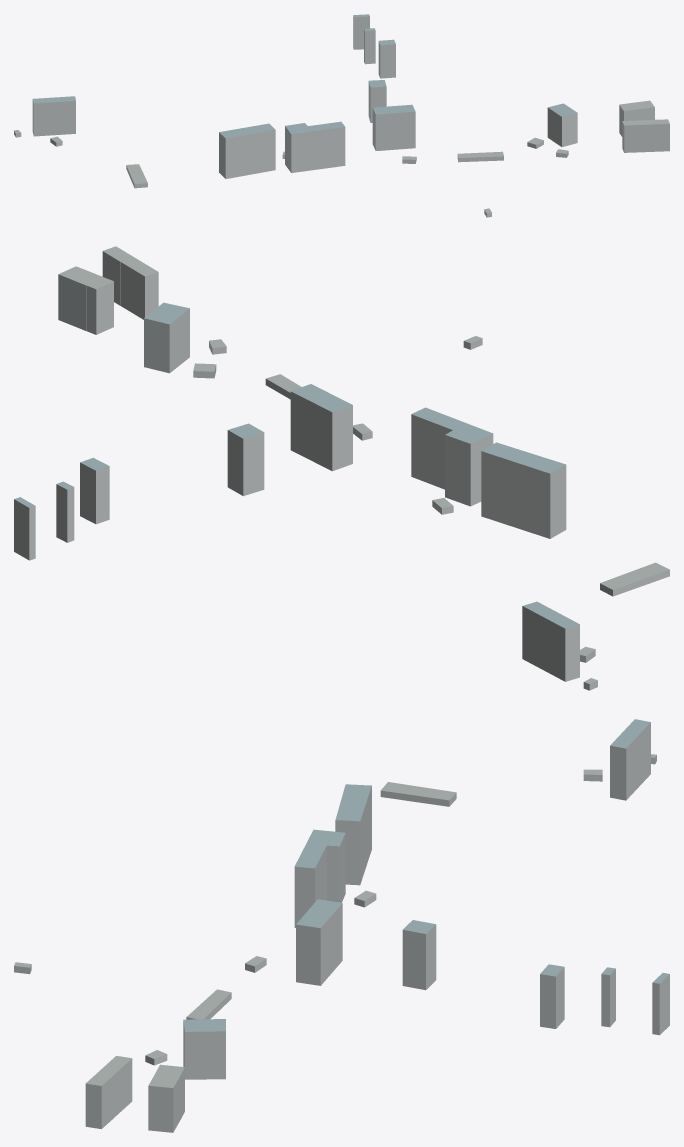
Rendered from far.glb.
3 views of the same model, one above another, from view 1: azimuth 30°, elevation 25°; view 2: azimuth 150°, elevation 25°; view 3: azimuth 270°, elevation 25° (orthographic). The views are drawn at different scales.
Size of the model in its own units: 307 by 24.6 by 229.
